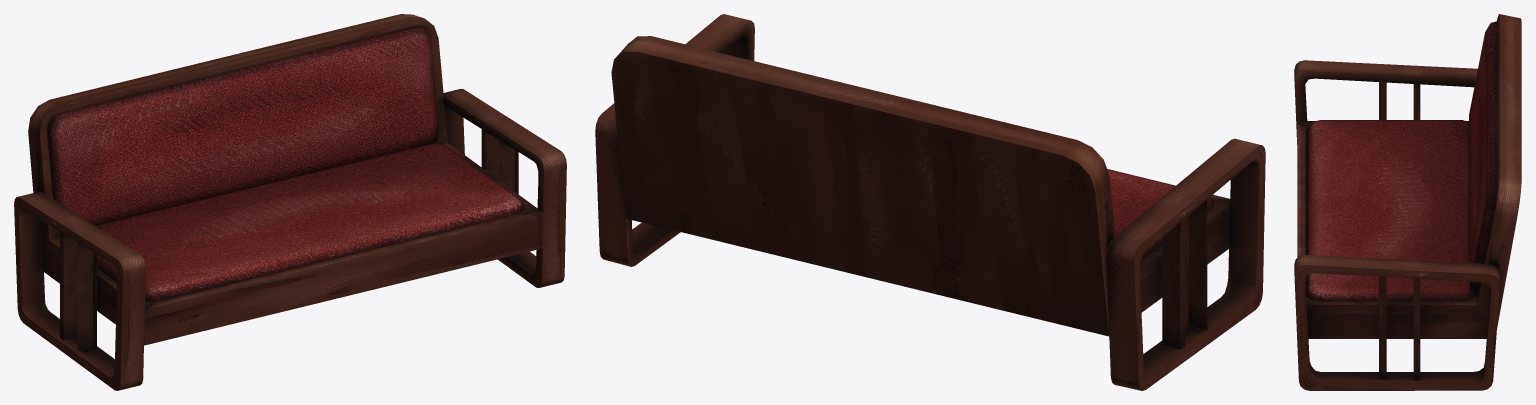
The model's file is chair02.fbx.
3 renders of one model, left to right at view 1: azimuth 30°, elevation 25°; view 2: azimuth 150°, elevation 25°; view 3: azimuth 270°, elevation 25°, orthographic. The views are drawn at different scales.
Visible parts, largest first — view 1: polySurface1670; view 2: polySurface1670; view 3: polySurface1670.
Boxes of the visible parts, x1,y1,x2,y2 form: polySurface1670: (14,14,566,390); polySurface1670: (595,14,1265,390); polySurface1670: (1294,14,1521,390).
Size of the model in its own units: 278 by 121 by 130.
